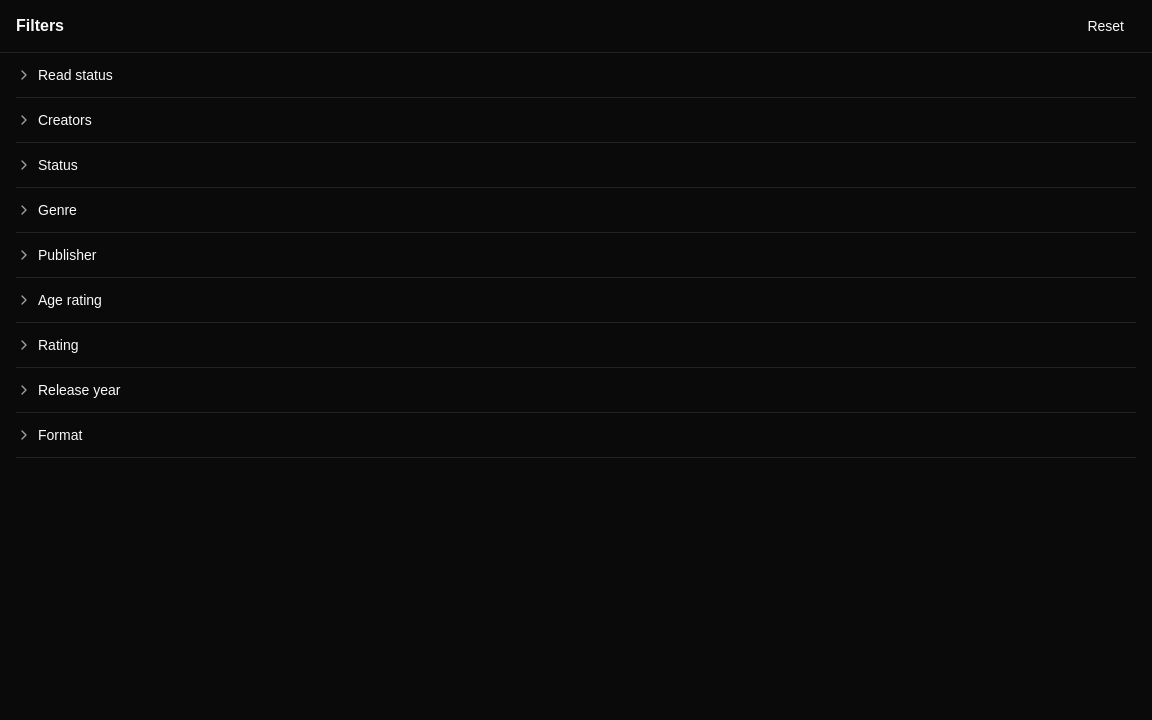
Test case: FilterPanelInner › applies the rating threshold preset
Click the button "Rating". click: (58, 345)
box: [16,323,1136,367]
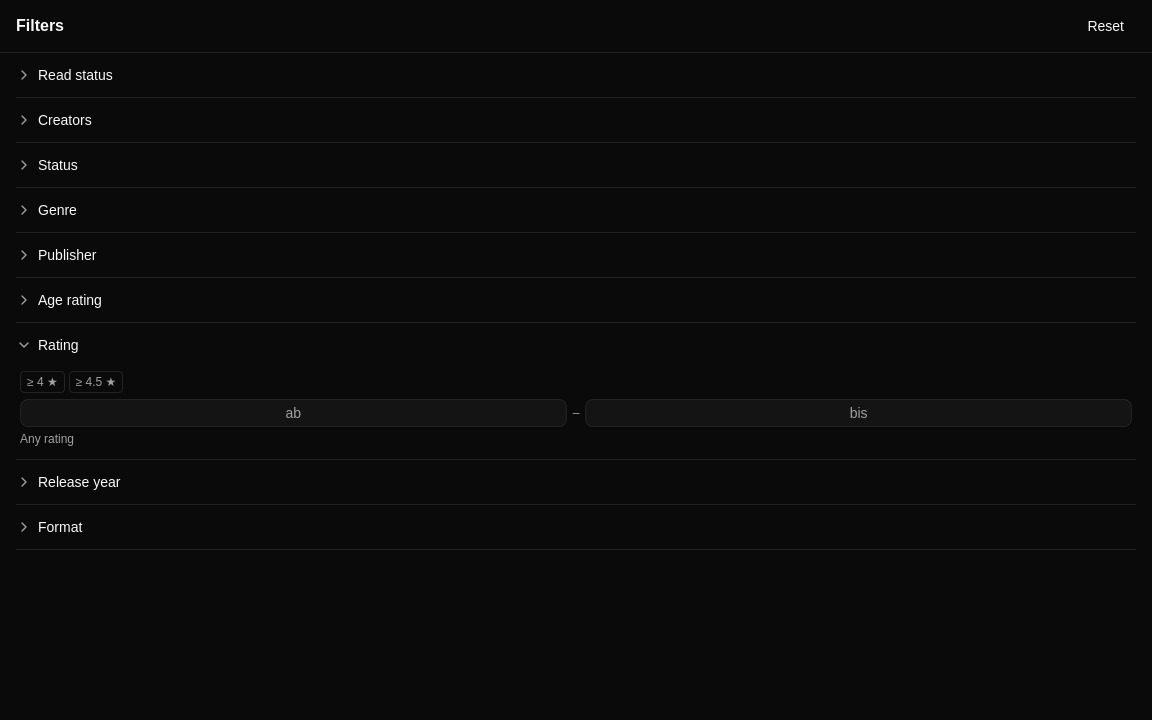
Click the button named "Rating at least 4". click: (42, 382)
box: [20,371,65,393]
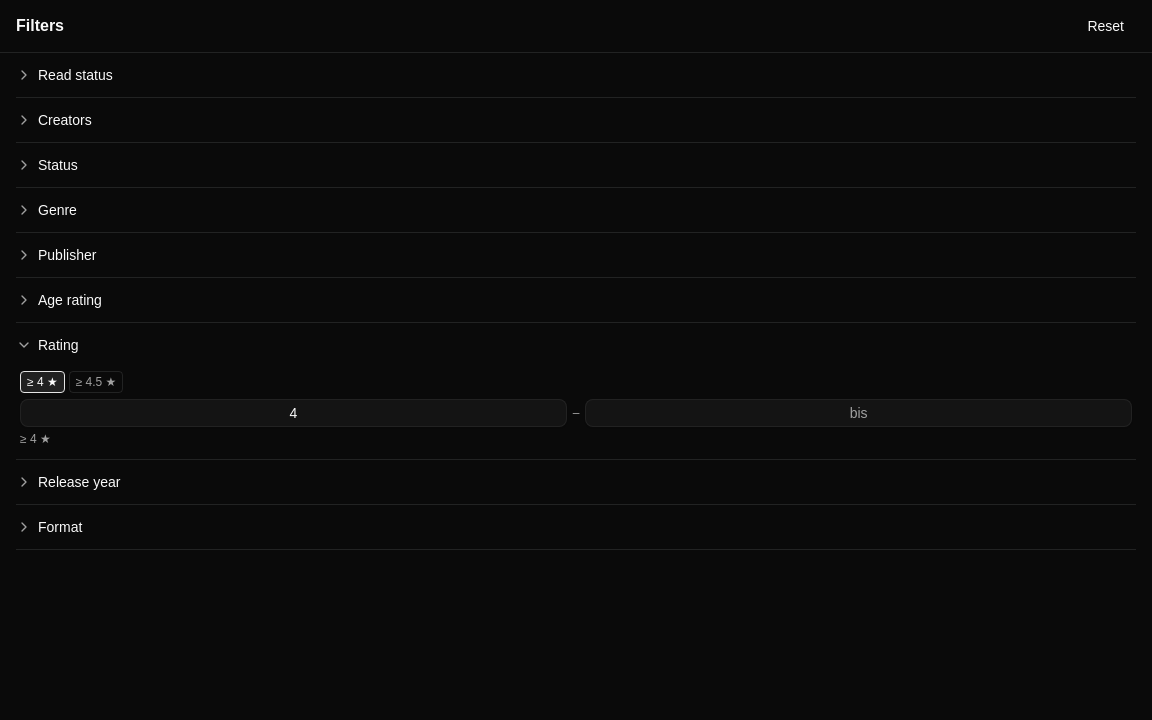
Check: the message reads "≥ 4 ★", box [20,432,51,446]
